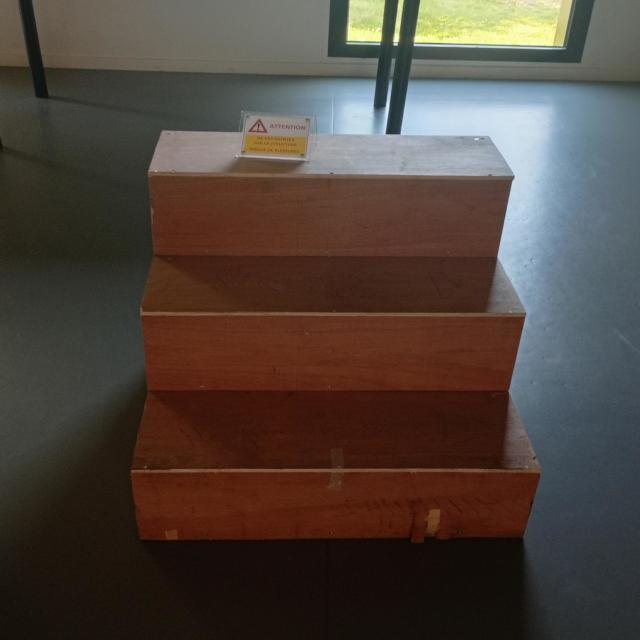Stairs: (98, 162, 584, 578)
